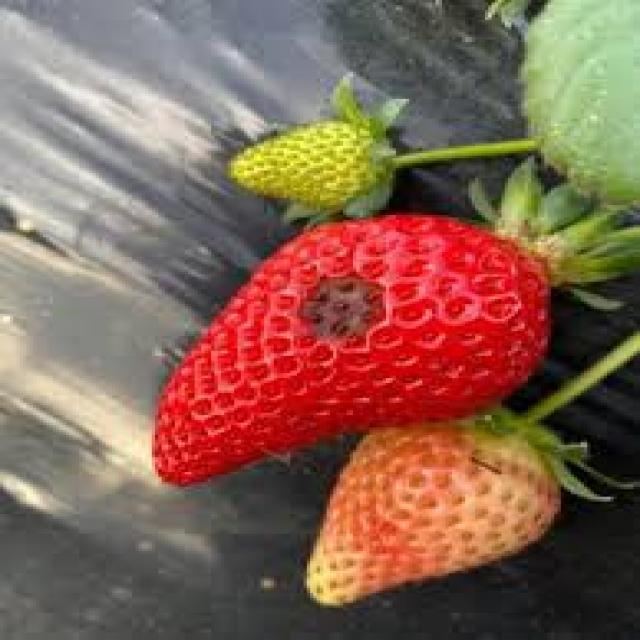Fruta sana: (332, 412, 575, 606), (222, 104, 392, 201)
Mancha negra Antracnosis: (142, 201, 558, 484)
